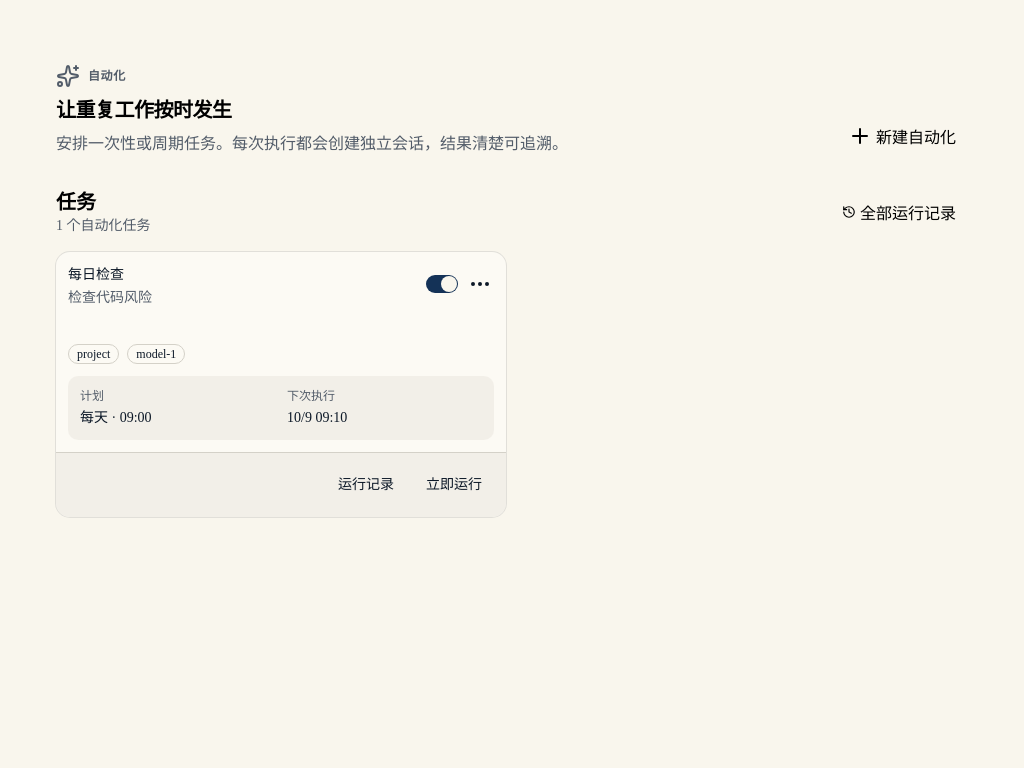
Test: automationsPage › 省略号菜单提供任务操作并可确认删除
Click the button named "更多每日检查操作" at (480, 284), box x1=466 y1=264 x2=494 y2=304
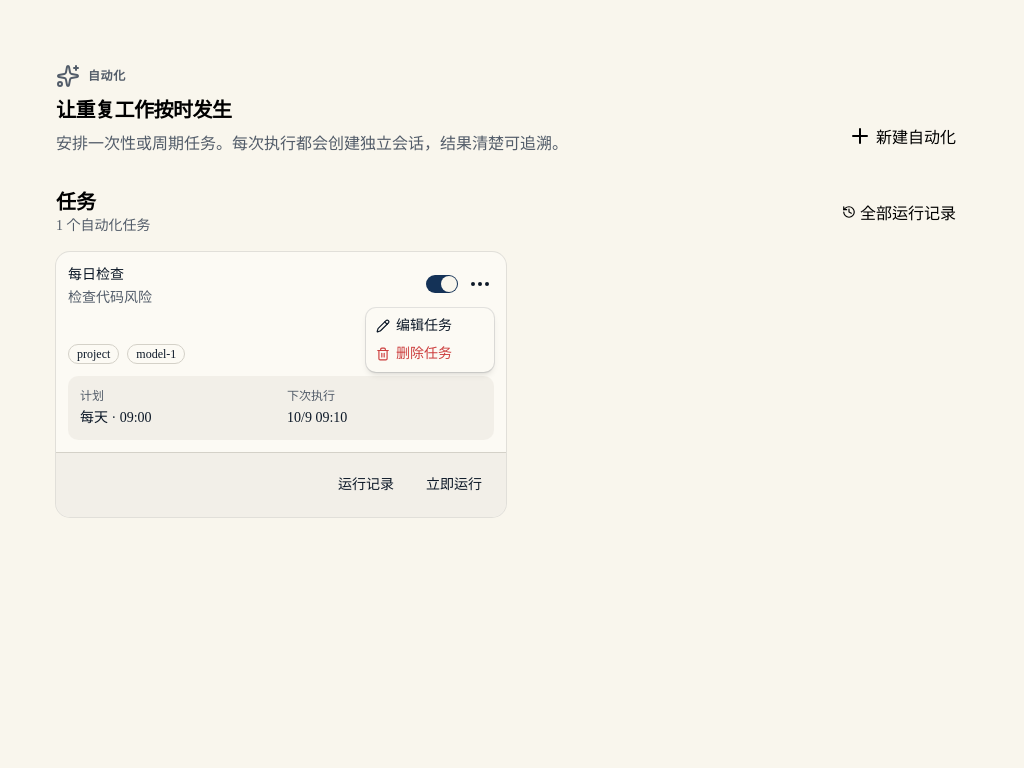
Click the menu item "删除任务" at (414, 354), box x1=376 y1=346 x2=452 y2=361
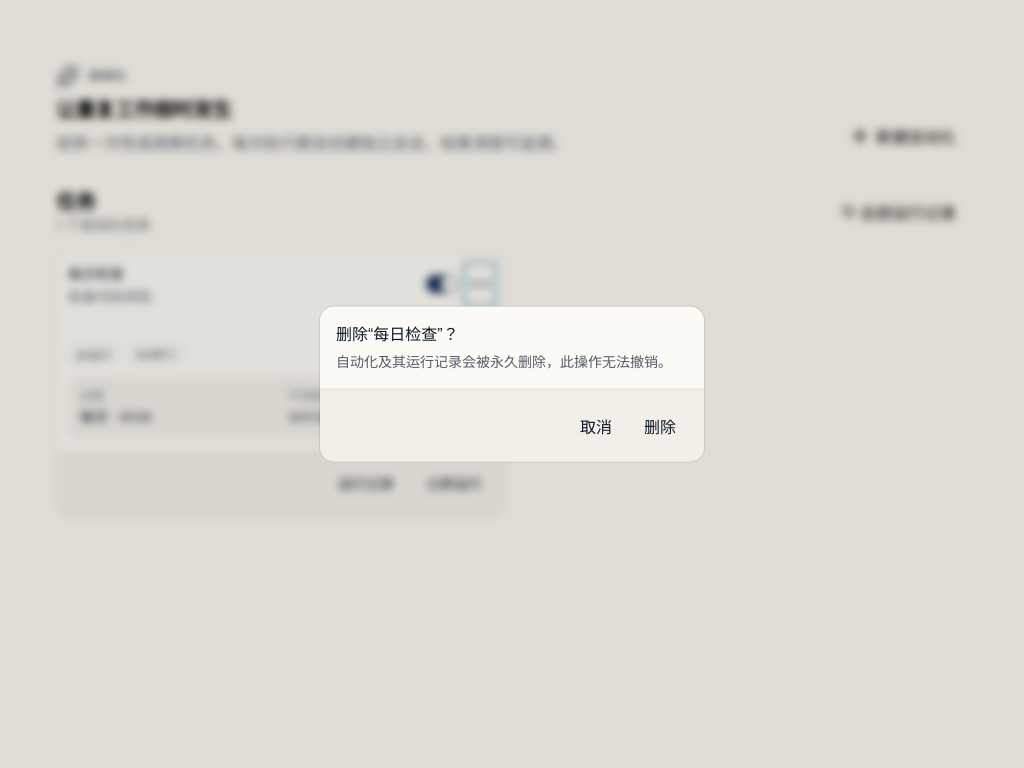
Click the button "删除" at (660, 426), box x1=632 y1=406 x2=688 y2=446
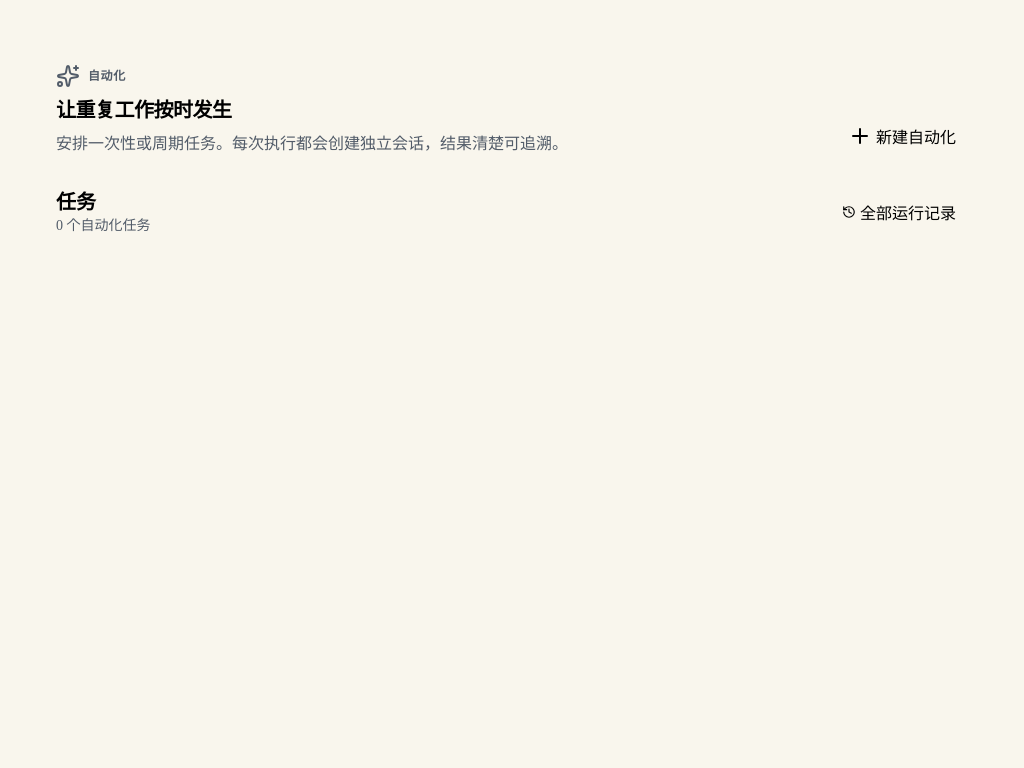
Check: the text "检查代码风险" is gone
